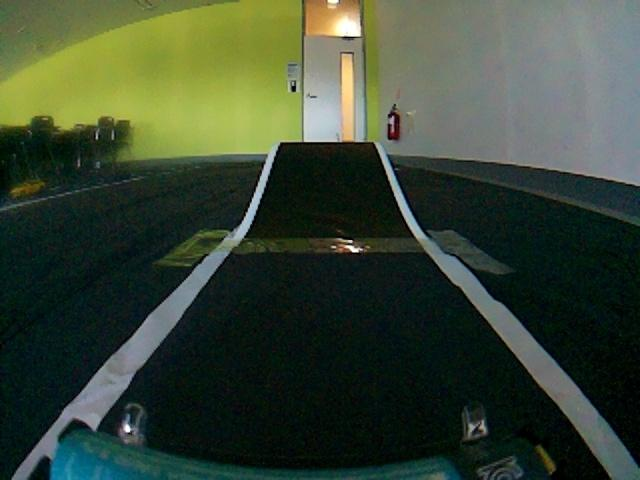go: (11, 246, 634, 480)
hill_up: (221, 143, 443, 244)
